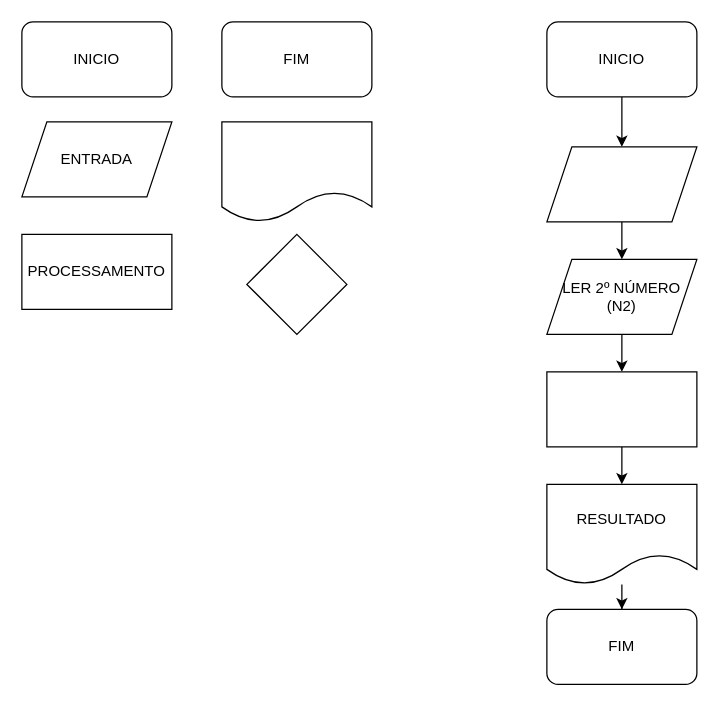
This 719x706 diagram has some shape labels left out. Each missing label, with the centre of its shape:
"DECISÃO" belongs at point (296, 283).
"LER 1º NÚMERO (N1)" belongs at point (621, 184).
"RESULTADO = N1+N2" belongs at point (621, 409).
"SAIDA" belongs at point (296, 171).
